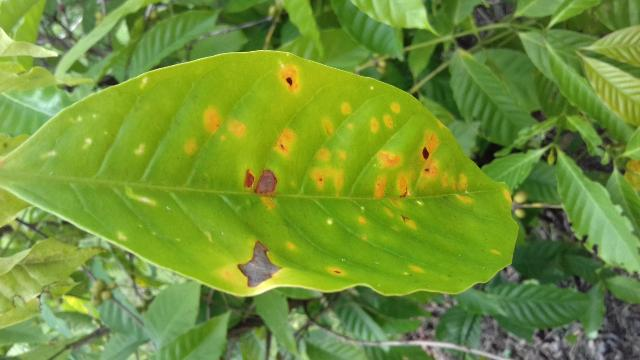rust_level_2: (0, 48, 522, 299)
